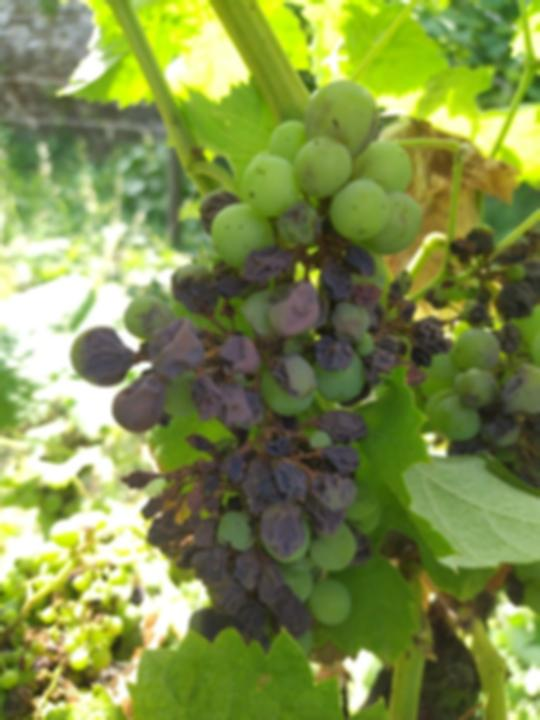grape: (68, 75, 457, 659)
